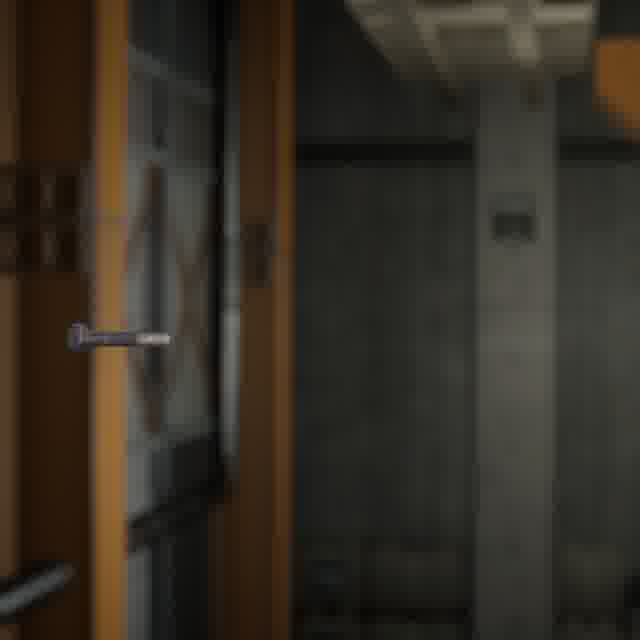bolt: (62, 319, 174, 357)
